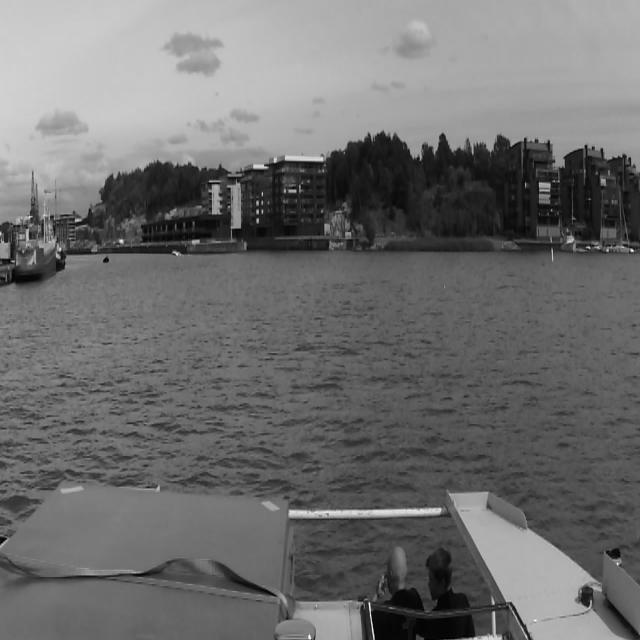ship: (17, 199, 56, 285), (609, 187, 635, 256), (561, 229, 576, 255), (103, 254, 109, 263), (172, 251, 180, 257)
